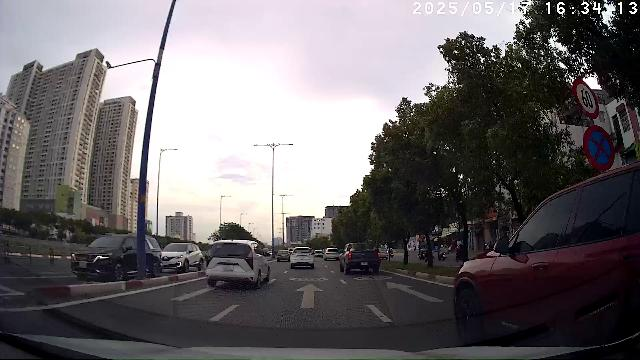127-toc-do-toi-da-60: (572, 79, 600, 120)
130-cam-dung-va-do-xe: (583, 124, 615, 172)
